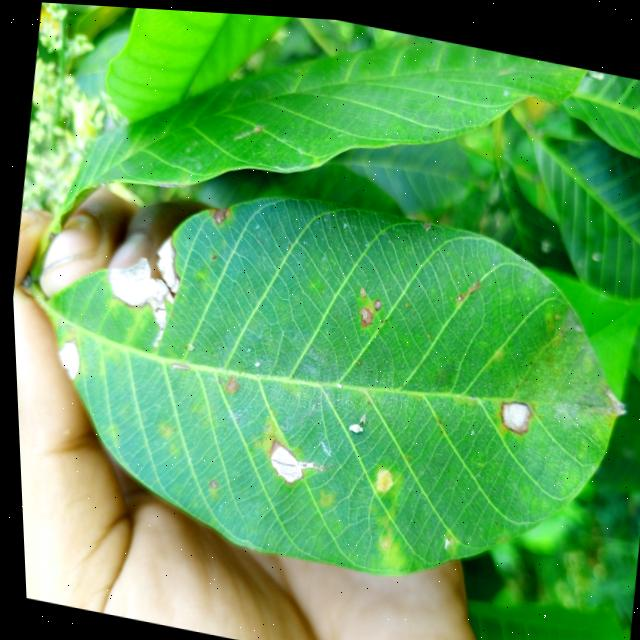Colletotrichum: (370, 293, 380, 306)
Leaf-Blight: (96, 222, 186, 351), (262, 436, 317, 484), (52, 334, 81, 382), (495, 392, 529, 428)
